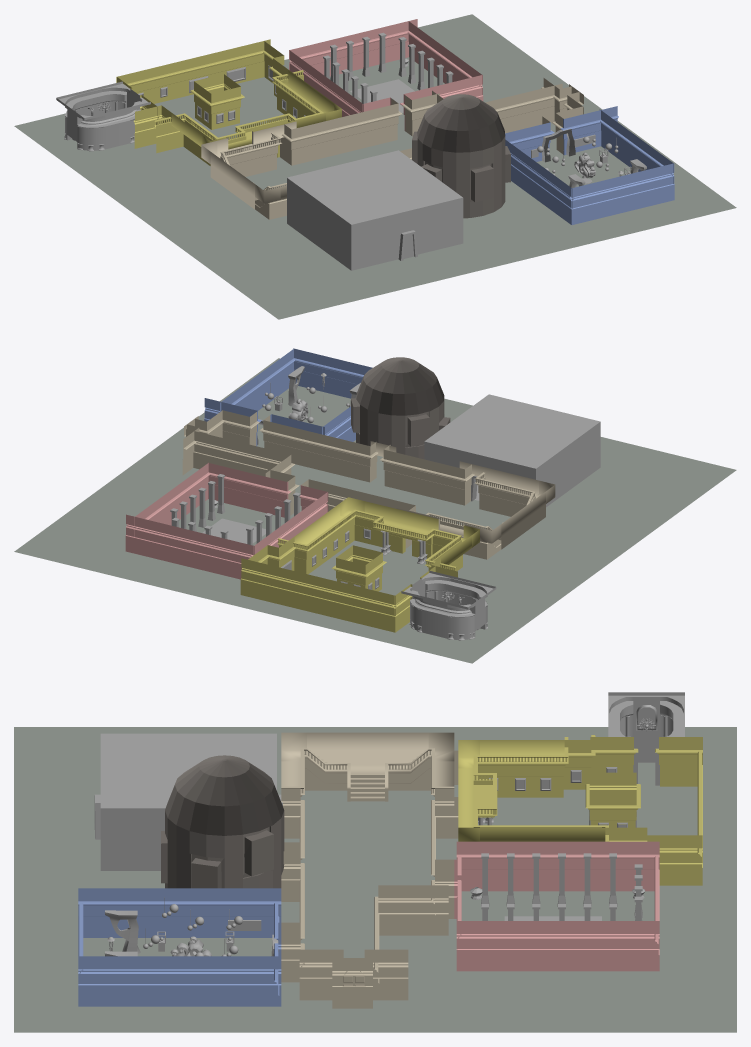
File: clean_layout.fbx
3 views of the same model, one above another, from view 1: azimuth 30°, elevation 25°; view 2: azimuth 150°, elevation 25°; view 3: azimuth 270°, elevation 25° (orthographic). The views are drawn at different scales.
Parts seen in each view (by area): view 1: polySurface3382, polySurface1848, polySurface3376, polySurface3288, polySurface1979, Burasque_1, Golden_1, Burasque_2, polySurface3365, Golden_4; view 2: polySurface3382, polySurface3376, polySurface1848, Burasque_1, polySurface1979, polySurface3288, Golden_1, Burasque_2, polySurface3365, Golden_3; view 3: polySurface3382, polySurface3376, Burasque_1, polySurface3288, polySurface1979, polySurface1848, Golden_1, Burasque_2, polySurface3365, Golden_4.
Part boxes in pixels (box(x1,y1,x2,y2)): polySurface3382: box(14, 14, 736, 319); polySurface1848: box(287, 150, 463, 270); polySurface3376: box(116, 39, 341, 165); polySurface3288: box(505, 106, 674, 224); polySurface1979: box(412, 94, 510, 218); Burasque_1: box(289, 19, 483, 130); Golden_1: box(56, 81, 150, 150); Burasque_2: box(323, 32, 453, 112); polySurface3365: box(531, 128, 646, 187); Golden_4: box(138, 65, 305, 123); polySurface3382: box(14, 358, 736, 663); polySurface3376: box(240, 497, 479, 632); polySurface1848: box(424, 394, 600, 507); Burasque_1: box(125, 462, 328, 579); polySurface1979: box(351, 357, 450, 459); polySurface3288: box(204, 348, 372, 446); Golden_1: box(401, 570, 496, 639); Burasque_2: box(170, 474, 300, 545); polySurface3365: box(257, 366, 360, 444); Golden_3: box(380, 530, 487, 640); polySurface3382: box(14, 727, 736, 1032); polySurface3376: box(458, 735, 702, 885); Burasque_1: box(454, 841, 659, 971); polySurface3288: box(78, 888, 281, 1006); polySurface1979: box(161, 755, 284, 888); polySurface1848: box(94, 733, 282, 870); Golden_1: box(608, 692, 684, 785); Burasque_2: box(470, 853, 645, 920); polySurface3365: box(104, 897, 278, 956); Golden_4: box(489, 705, 657, 827).
Size of the model in its own units: 84.78 by 18.32 by 84.78.
